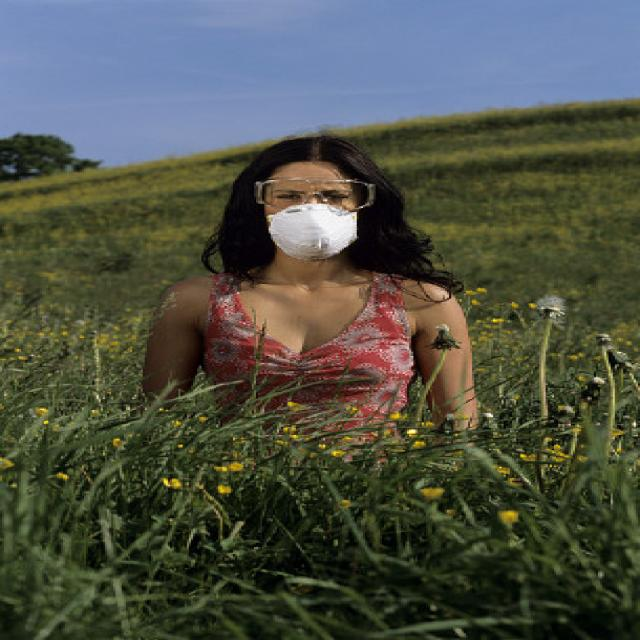mask: (264, 165, 354, 258)
